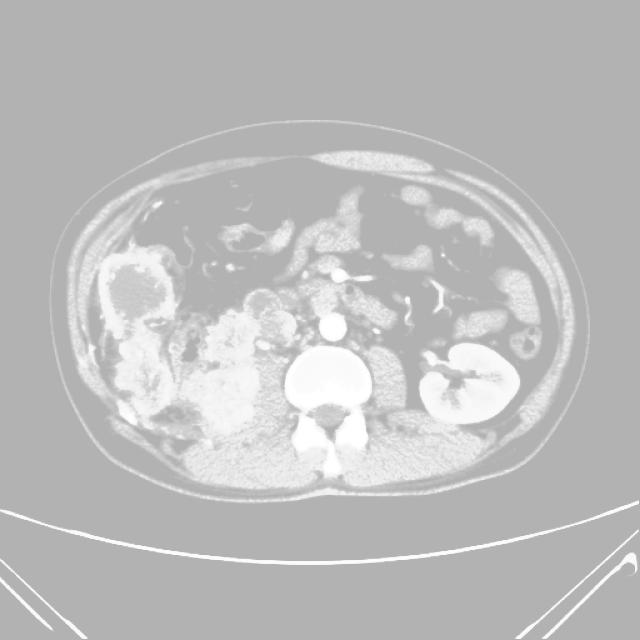TUMOR: (75, 204, 504, 481)
